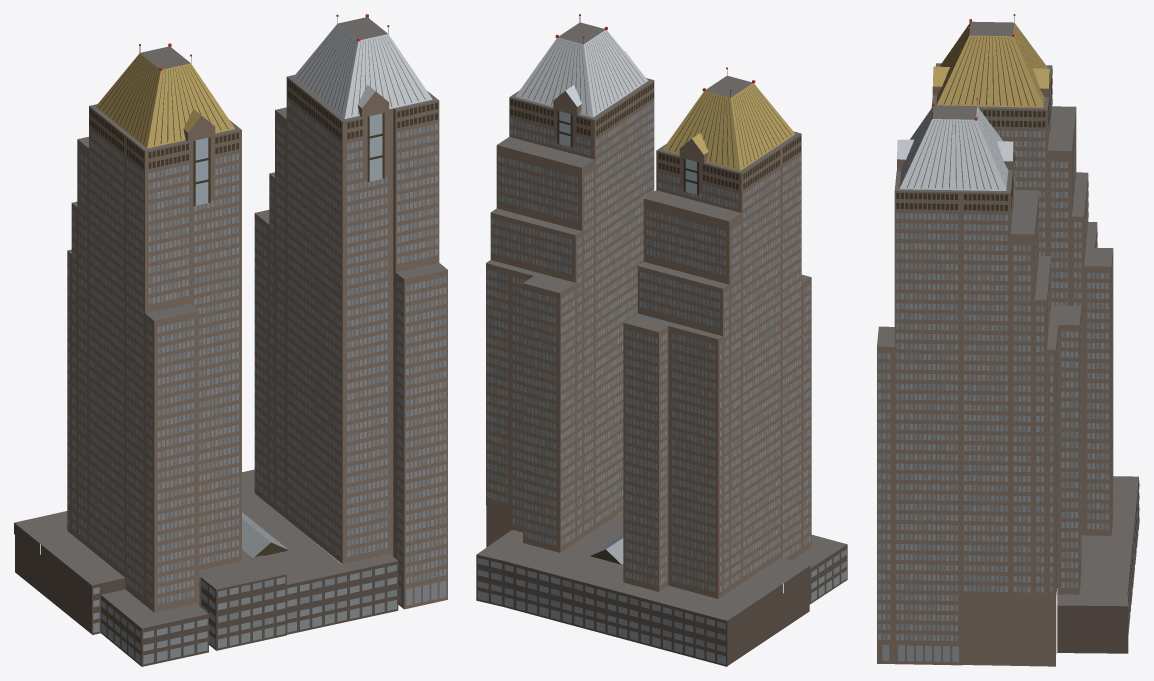
File: bankers-hall-near.glb
3 renders of one model, left to right at view 1: azimuth 30°, elevation 25°; view 2: azimuth 150°, elevation 25°; view 3: azimuth 270°, elevation 25°, orthographic. The views are drawn at different scales.
Parts seen in each view (by area): view 1: bankers-hall-0-stone, bankers-hall-0-glass, bankers-hall-0-glow, bankers-hall-0-roof, bankers-hall-0-podium, bankers-hall-0-crown, bankers-hall-0-silver, bankers-hall-0-metal, bankers-hall-0-light; view 2: bankers-hall-0-stone, bankers-hall-0-glass, bankers-hall-0-glow, bankers-hall-0-roof, bankers-hall-0-podium, bankers-hall-0-crown, bankers-hall-0-silver, bankers-hall-0-metal, bankers-hall-0-light; view 3: bankers-hall-0-stone, bankers-hall-0-glow, bankers-hall-0-glass, bankers-hall-0-roof, bankers-hall-0-silver, bankers-hall-0-crown, bankers-hall-0-podium, bankers-hall-0-metal.
Part boxes in pixels (<box>): bankers-hall-0-stone: <box>67,77,447,612</box>; bankers-hall-0-glass: <box>68,101,446,664</box>; bankers-hall-0-glow: <box>68,102,446,650</box>; bankers-hall-0-roof: <box>14,17,447,628</box>; bankers-hall-0-podium: <box>14,523,398,666</box>; bankers-hall-0-crown: <box>95,53,235,148</box>; bankers-hall-0-silver: <box>293,24,432,118</box>; bankers-hall-0-metal: <box>89,17,437,556</box>; bankers-hall-0-light: <box>195,113,382,205</box>; bankers-hall-0-stone: <box>486,80,811,598</box>; bankers-hall-0-glass: <box>477,105,846,664</box>; bankers-hall-0-glow: <box>487,102,846,652</box>; bankers-hall-0-roof: <box>477,22,846,620</box>; bankers-hall-0-podium: <box>476,544,847,666</box>; bankers-hall-0-crown: <box>662,83,795,170</box>; bankers-hall-0-silver: <box>515,30,648,117</box>; bankers-hall-0-metal: <box>510,16,800,564</box>; bankers-hall-0-light: <box>559,111,696,194</box>; bankers-hall-0-stone: <box>877,66,1113,666</box>; bankers-hall-0-glow: <box>878,95,1139,641</box>; bankers-hall-0-glass: <box>878,89,1139,662</box>; bankers-hall-0-roof: <box>877,21,1138,606</box>; bankers-hall-0-silver: <box>897,106,1013,190</box>; bankers-hall-0-crown: <box>933,22,1049,107</box>; bankers-hall-0-podium: <box>1057,480,1138,653</box>; bankers-hall-0-metal: <box>896,16,1052,210</box>.
Bounding box in the file's own units: 114 × 197 × 87.17.
